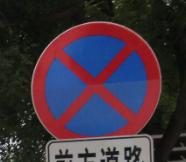No Parking: (34, 22, 163, 141)
